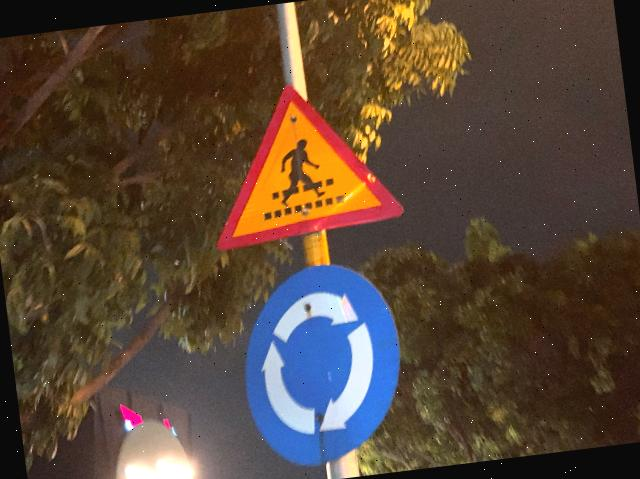duong-nguoi-di-bo-cat-ngang: (197, 72, 407, 252)
noi-giao-nhau-chay-theo-vong-xuyen: (230, 255, 414, 476)
